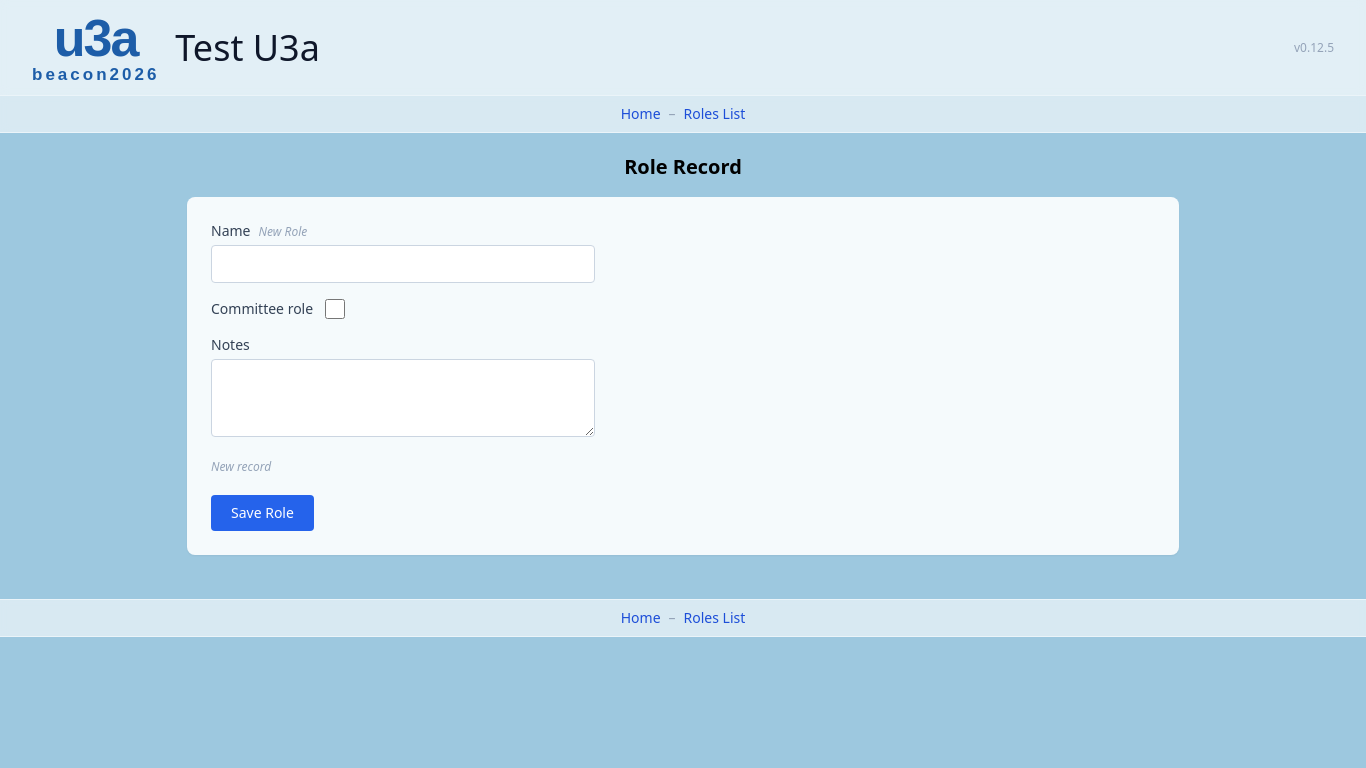
Scenario: RoleEditor page (new role) › blocks saving and shows an error when the name is empty
The image size is (1366, 768).
Click the button "Save Role" at (262,513), box [211, 495, 314, 531]
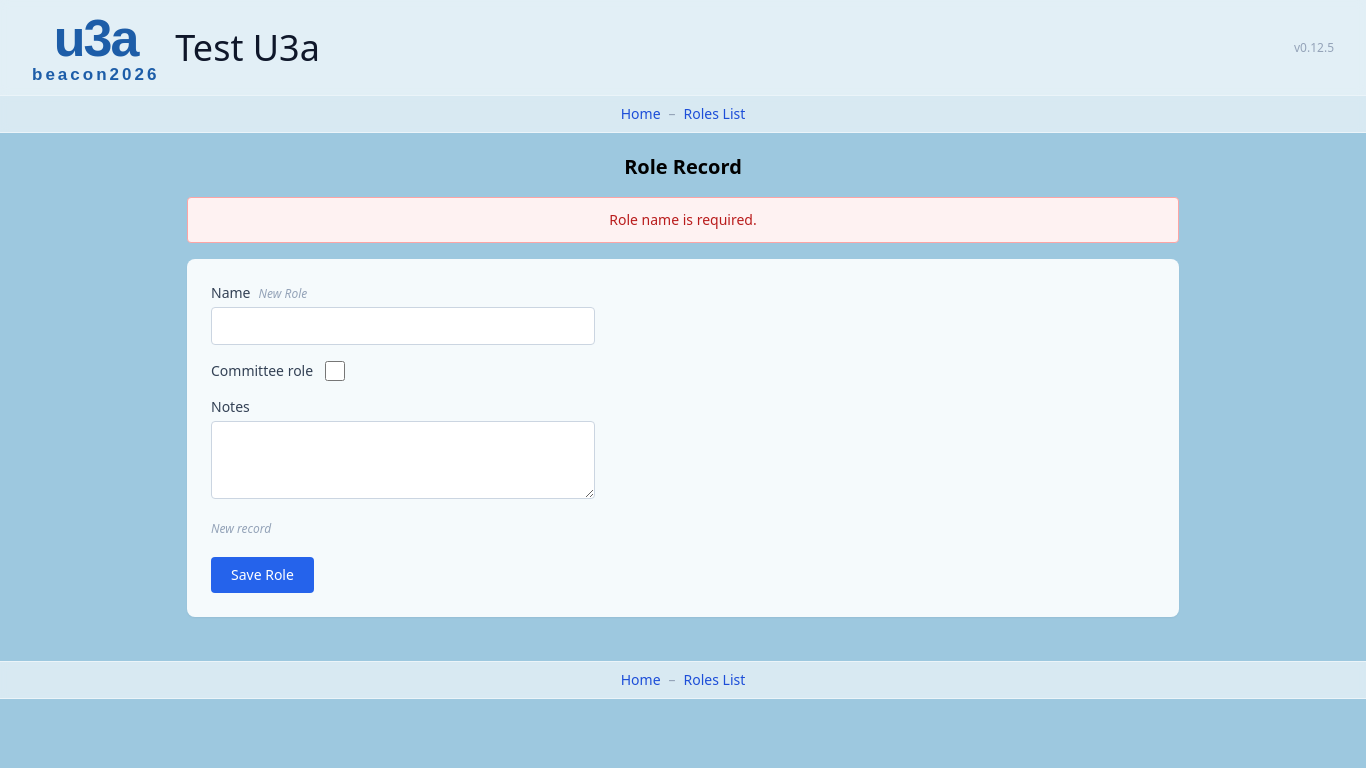
Result: the text "Role name is required." is shown at [187, 197, 1179, 243]
